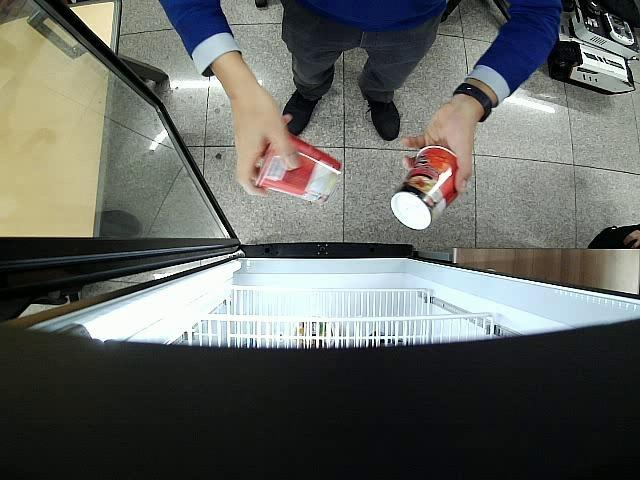02_shinRamen_S: (255, 134, 342, 206), (391, 146, 458, 230)
